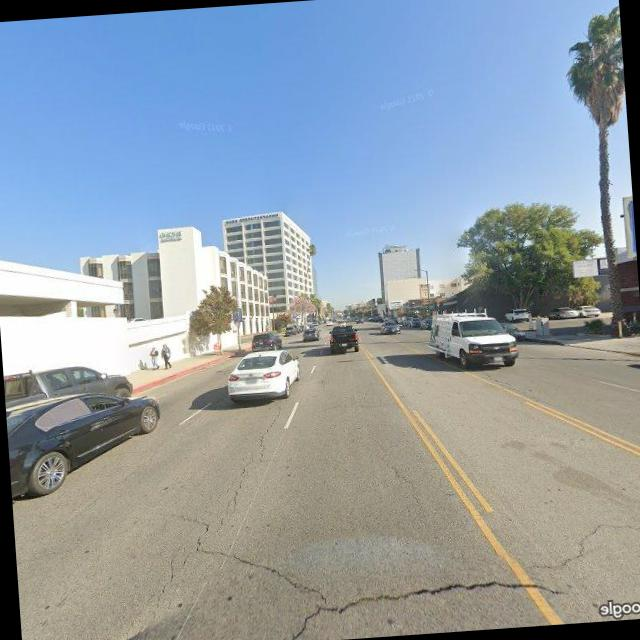crack: (213, 523, 566, 628), (154, 400, 298, 582), (383, 454, 431, 521)
